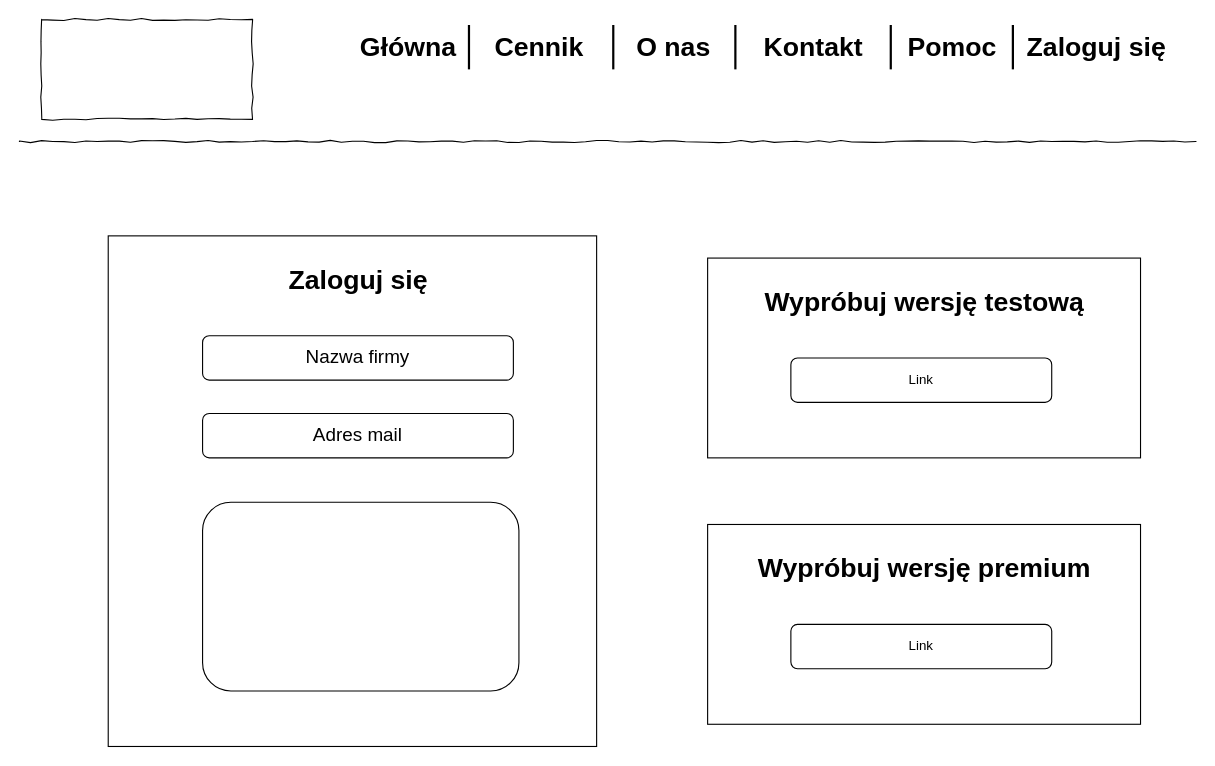
Image size: 1215x766. Some labels were removed from this diagram. The box of each missing label's shape, as (x1, y1, x2, y2) in pixels:
Info gdzie sprzedamy Twoje dane: zgoda: (201, 501, 519, 691)
LOGO: (41, 18, 253, 119)
